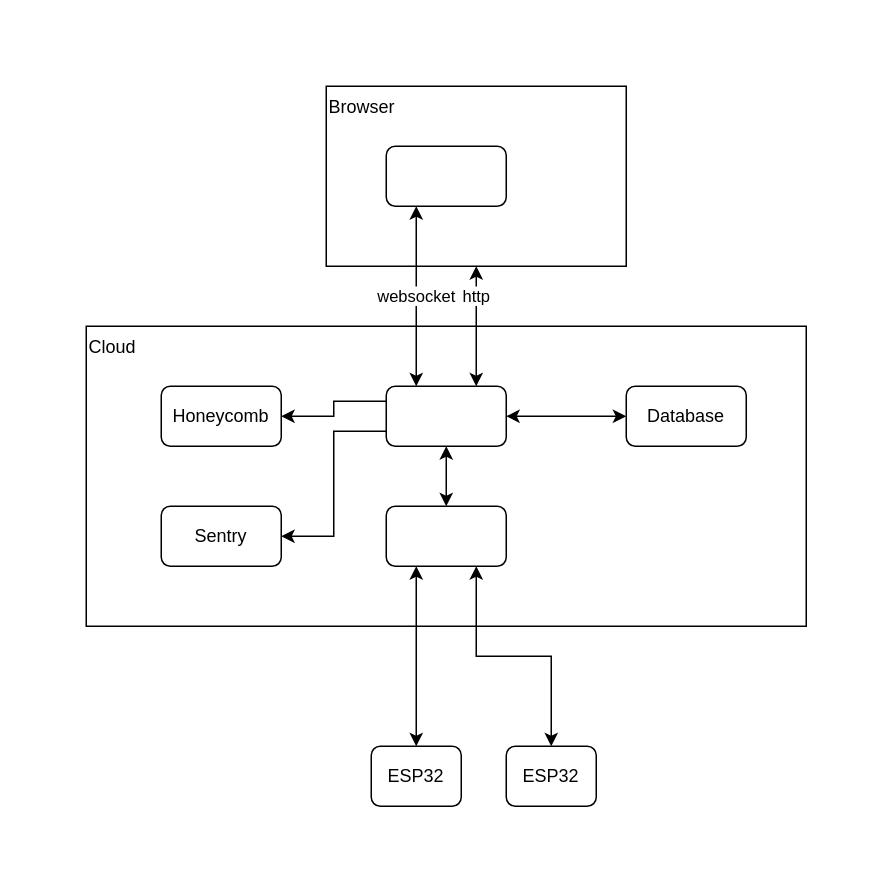
This 891x891 diagram has some shape labels left out. The centre of each missing label's shape, as x and y in pixels:
Back End: [445,415]
Mosquitto: [445,535]
UI: [445,175]
